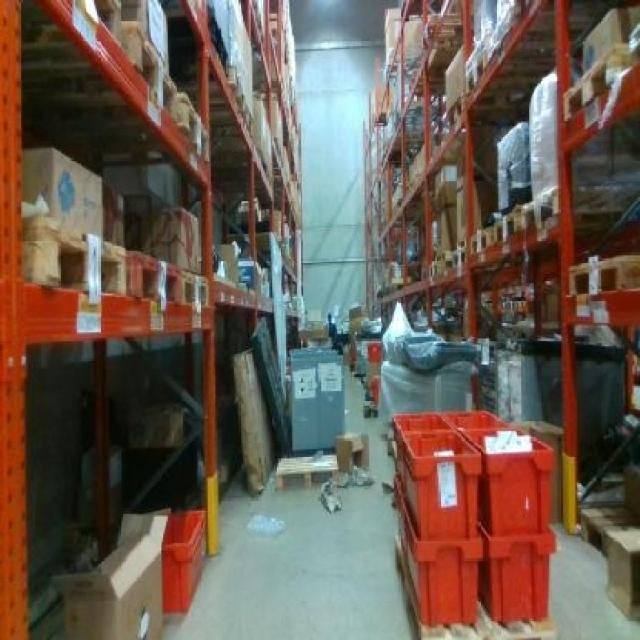pallets: (394, 409, 552, 635), (58, 514, 165, 637)
